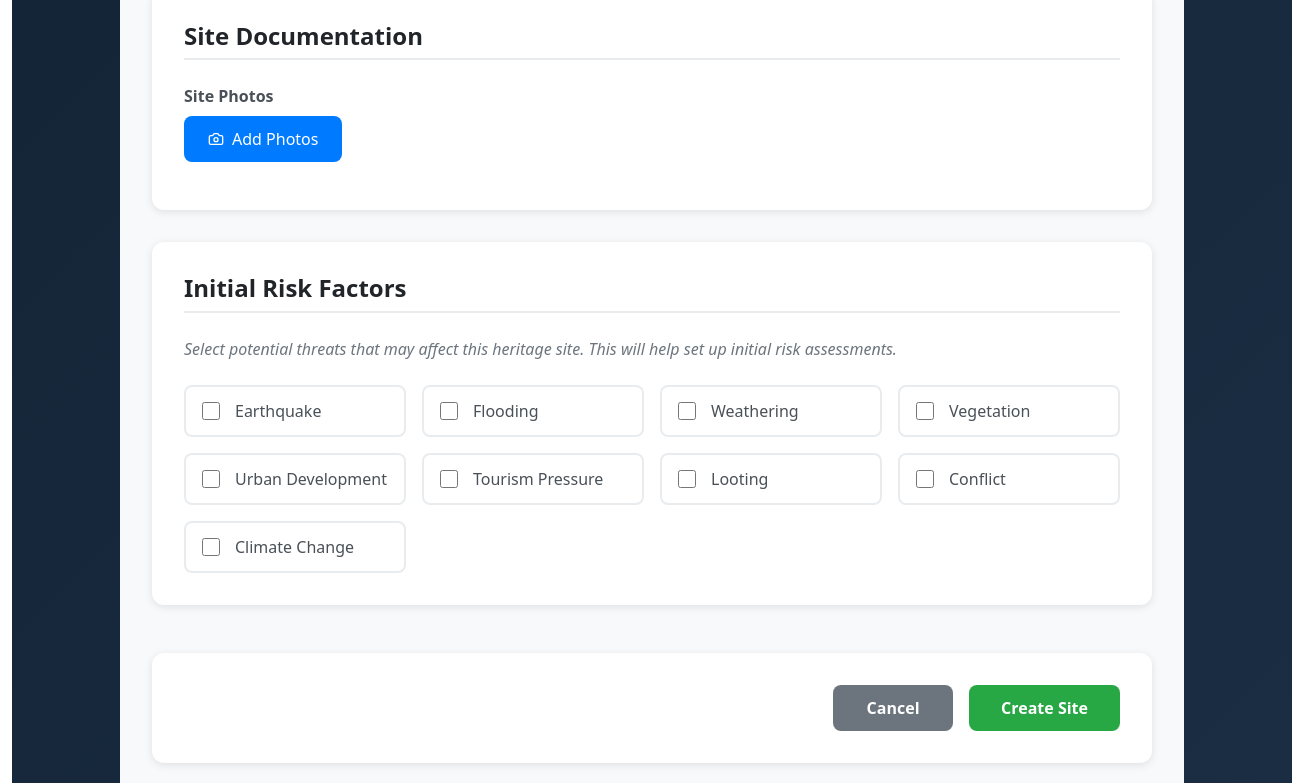
Test: SiteForm › clears error messages when user starts typing
The image size is (1292, 783).
(page scrolled)
Click the submit button at (1045, 708), box [969,685,1120,731]
(page scrolled)
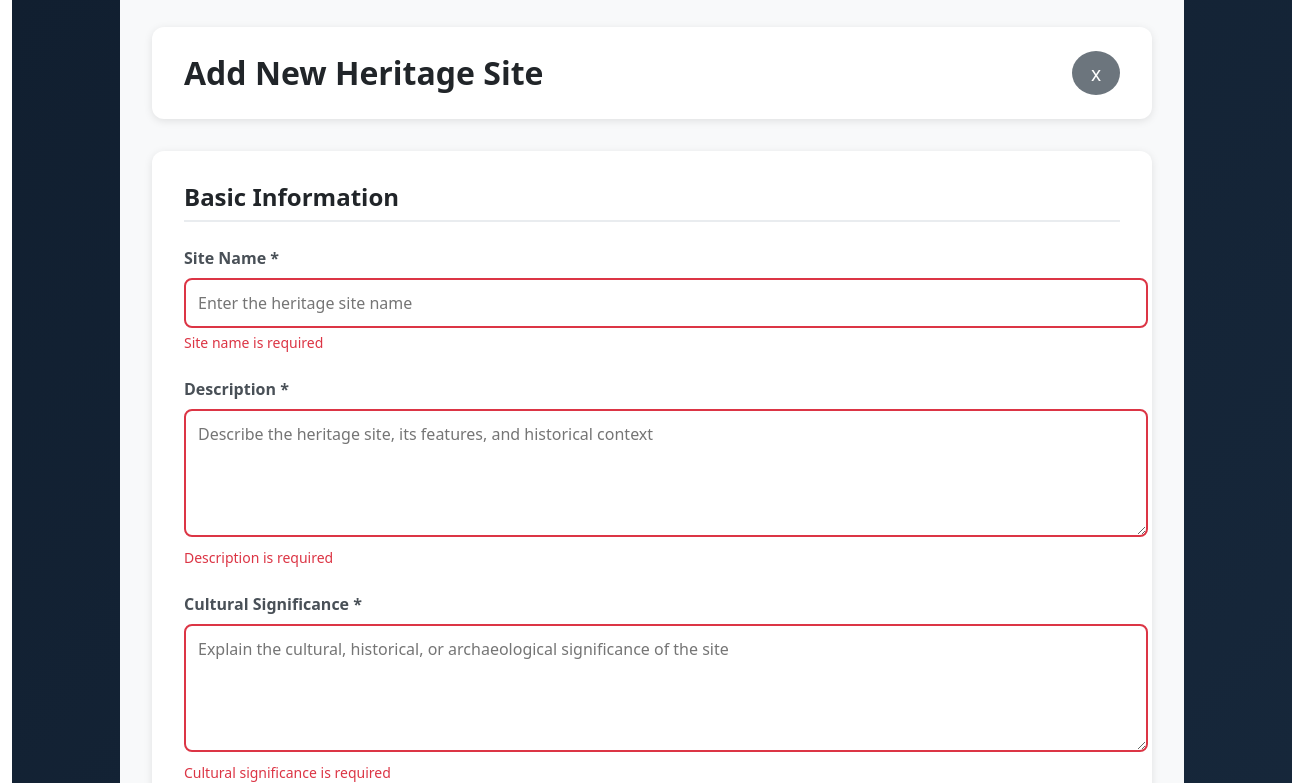
Now the text "Site name is required" is shown, box [184,333,323,352]
// Start typing in name field
Type "Test Site" into the field labelled "Site Name *" at (666, 303), box [184,278,1148,328]
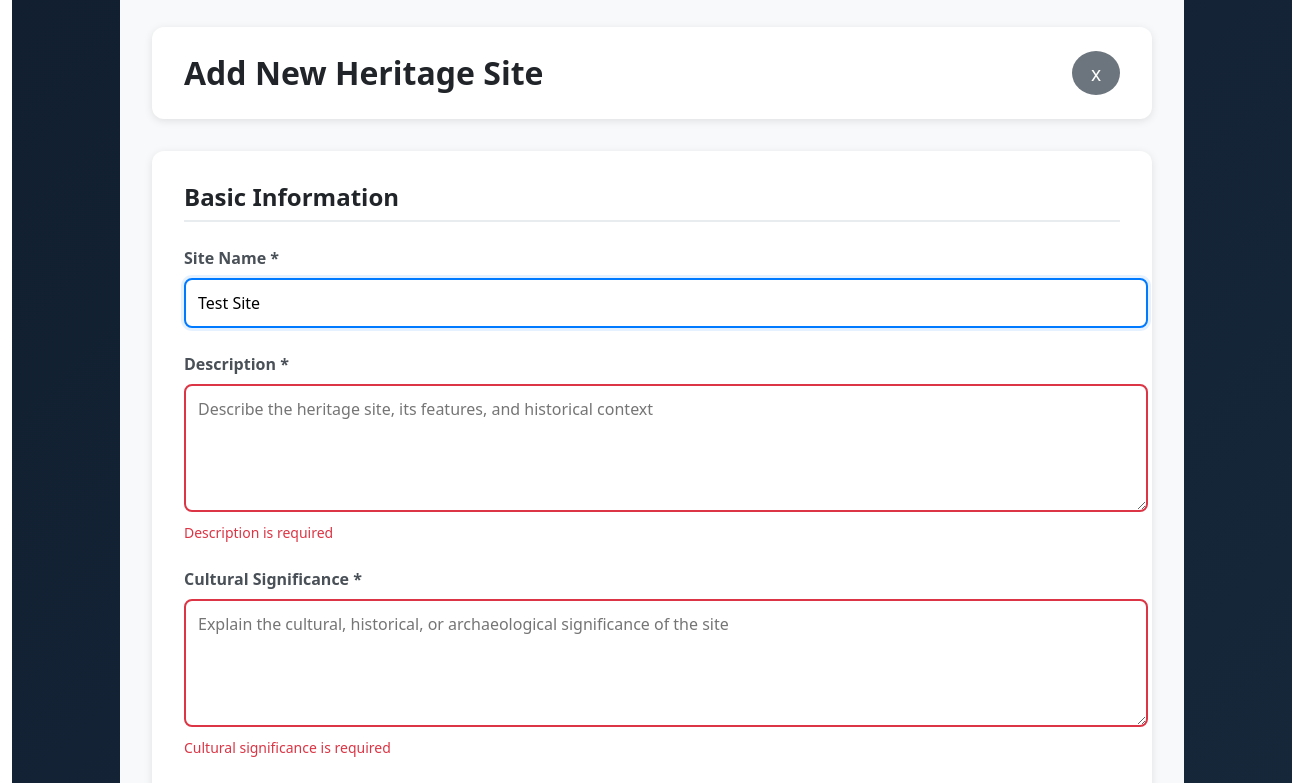
Now the text "Site name is required" is gone
